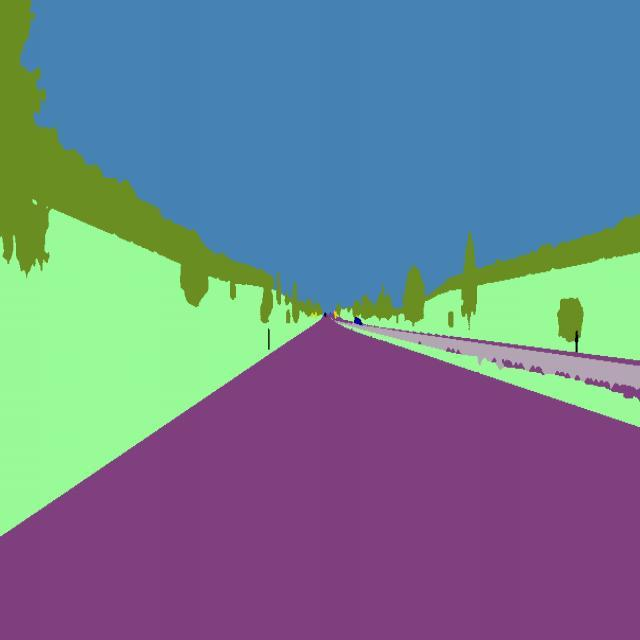safe: (349, 312, 366, 328)
